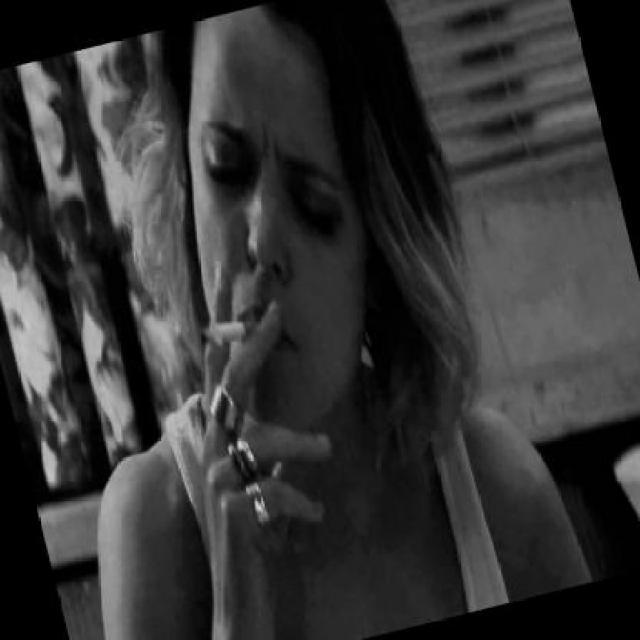cigarette: (196, 310, 264, 356)
